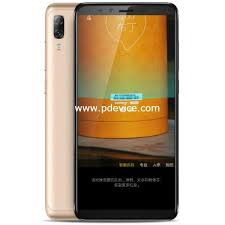lenovo: (73, 1, 179, 224)
